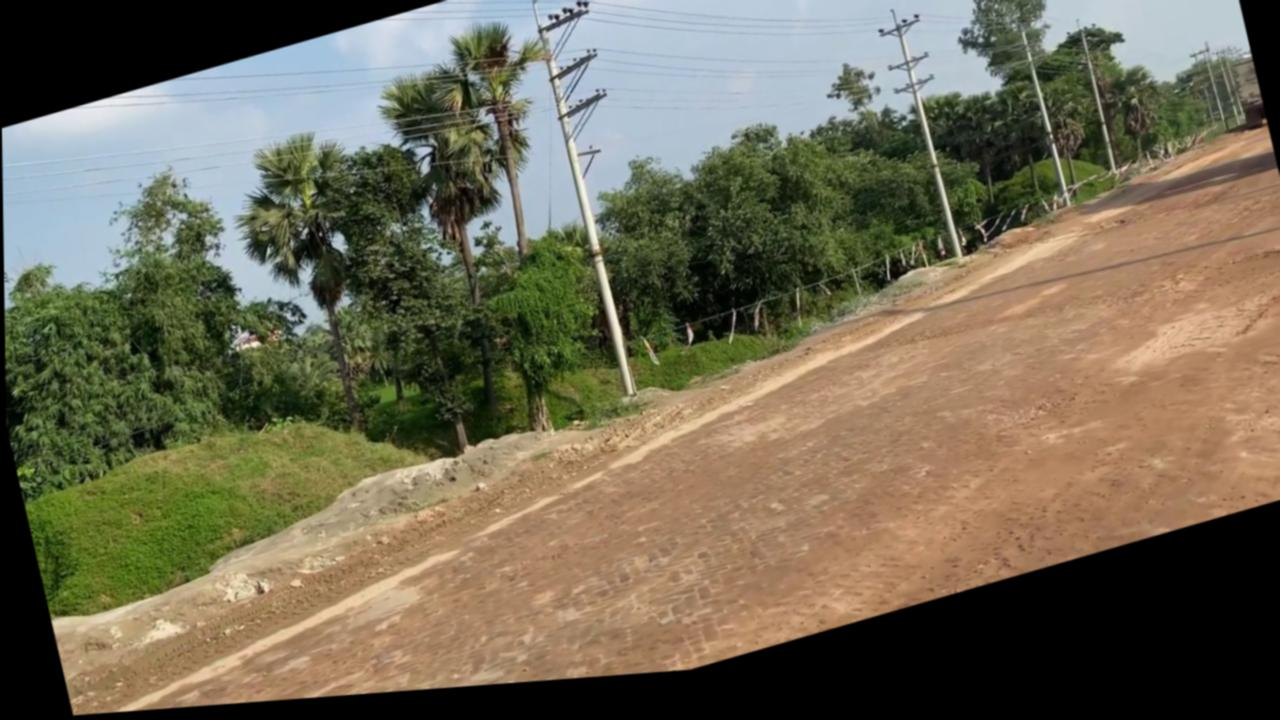Light-pole: (526, 0, 674, 415)
Pole: (528, 0, 636, 414), (872, 13, 973, 283), (1074, 33, 1117, 194)
Traffic-sign: (369, 55, 554, 441), (216, 120, 409, 464)
Tree: (1226, 70, 1266, 152)
